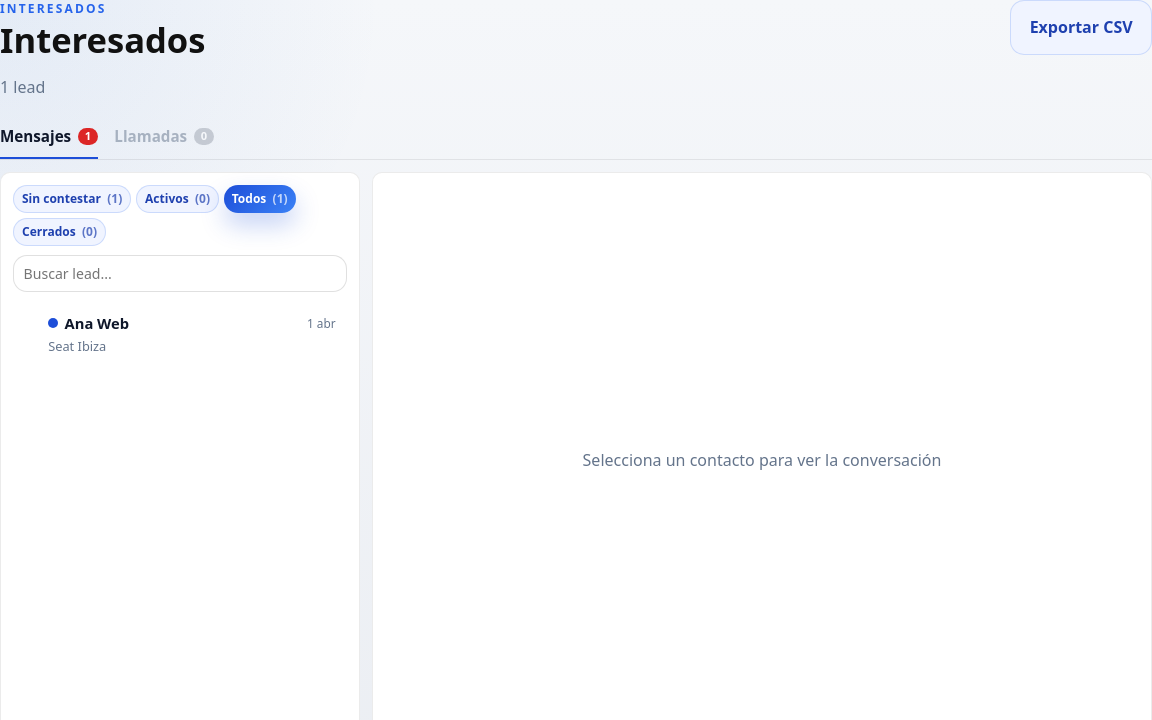
Test: LeadsList — composer (sugerir y enviar) › shows composer after selecting any lead
Click the text "Ana Web" at (89, 323), box [48,312,129,334]
(page scrolled)
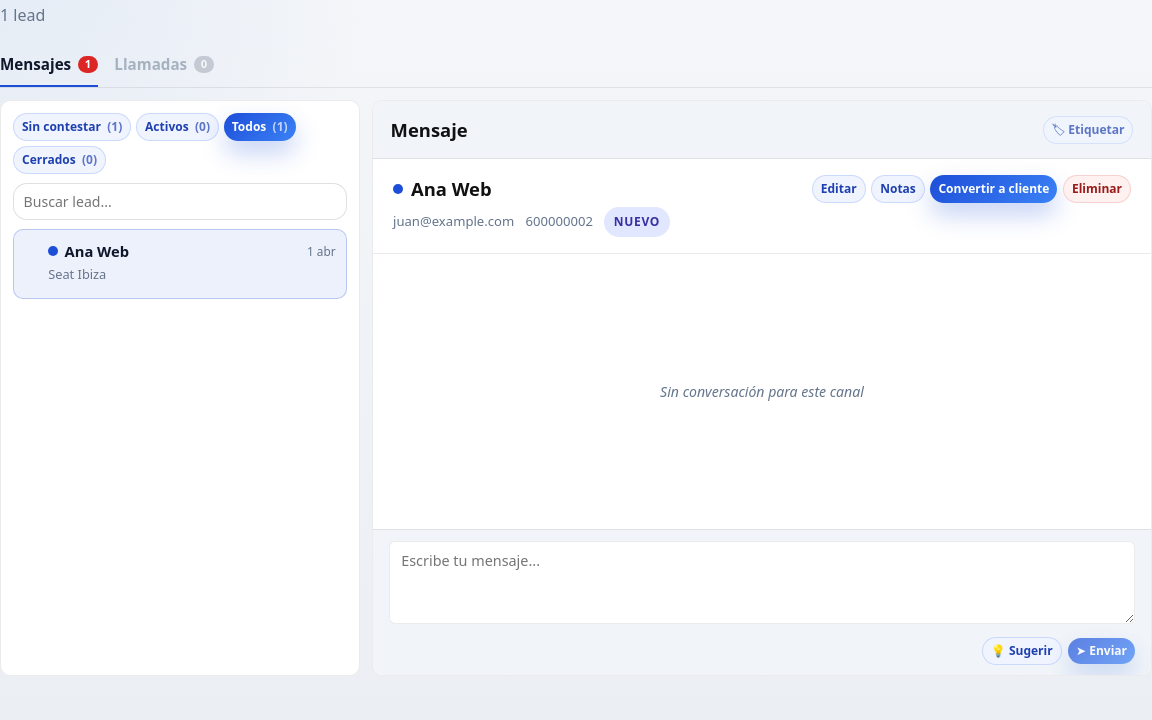
Check: the text box with placeholder "Escribe tu mensaje..." is shown, box [389,541,1135,624]
Check: the button "💡 Sugerir" is shown, box [982,637,1062,665]
Check: the button "➤ Enviar" is shown, box [1068,638,1135,664]
